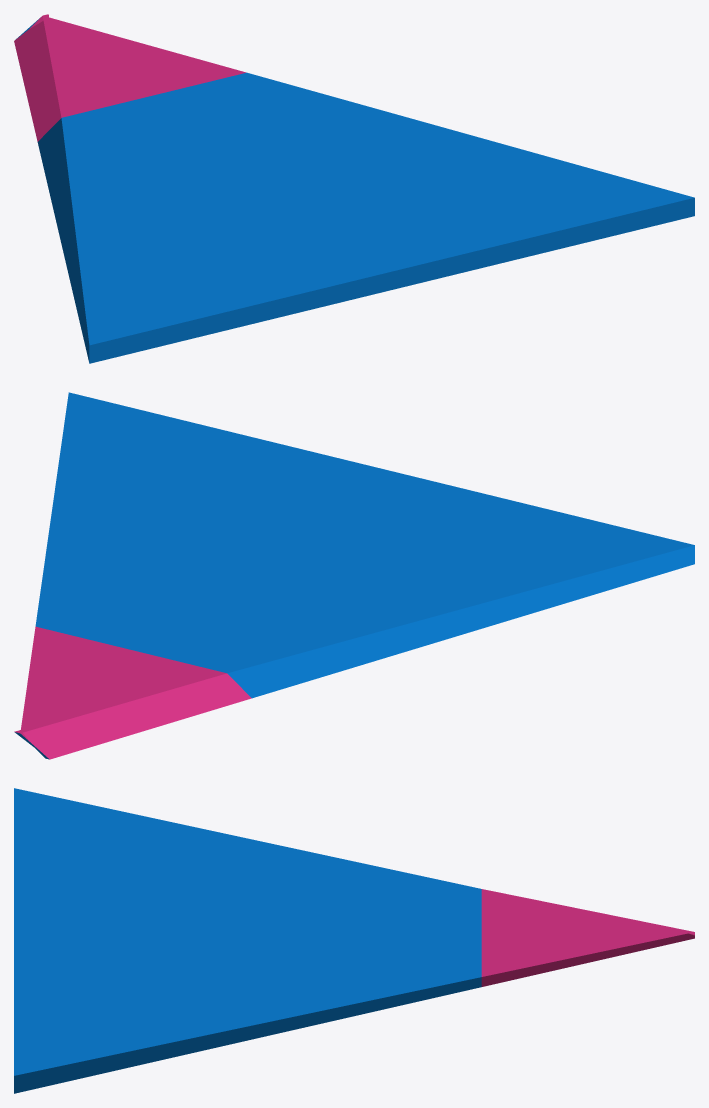
Rendered from arrow.fbx.
3 renders of one model, top to bottom at view 1: azimuth 30°, elevation 25°; view 2: azimuth 150°, elevation 25°; view 3: azimuth 270°, elevation 25°, orthographic. The views are drawn at different scales.
Visible parts, largest first — view 1: Cube; view 2: Cube; view 3: Cube.
Part boxes in pixels (box(x1,y1,x2,y2)): Cube: box(14, 14, 694, 363); Cube: box(14, 392, 694, 759); Cube: box(14, 788, 694, 1093).
Bounding box in the file's own units: 200 × 5.82 × 200.
